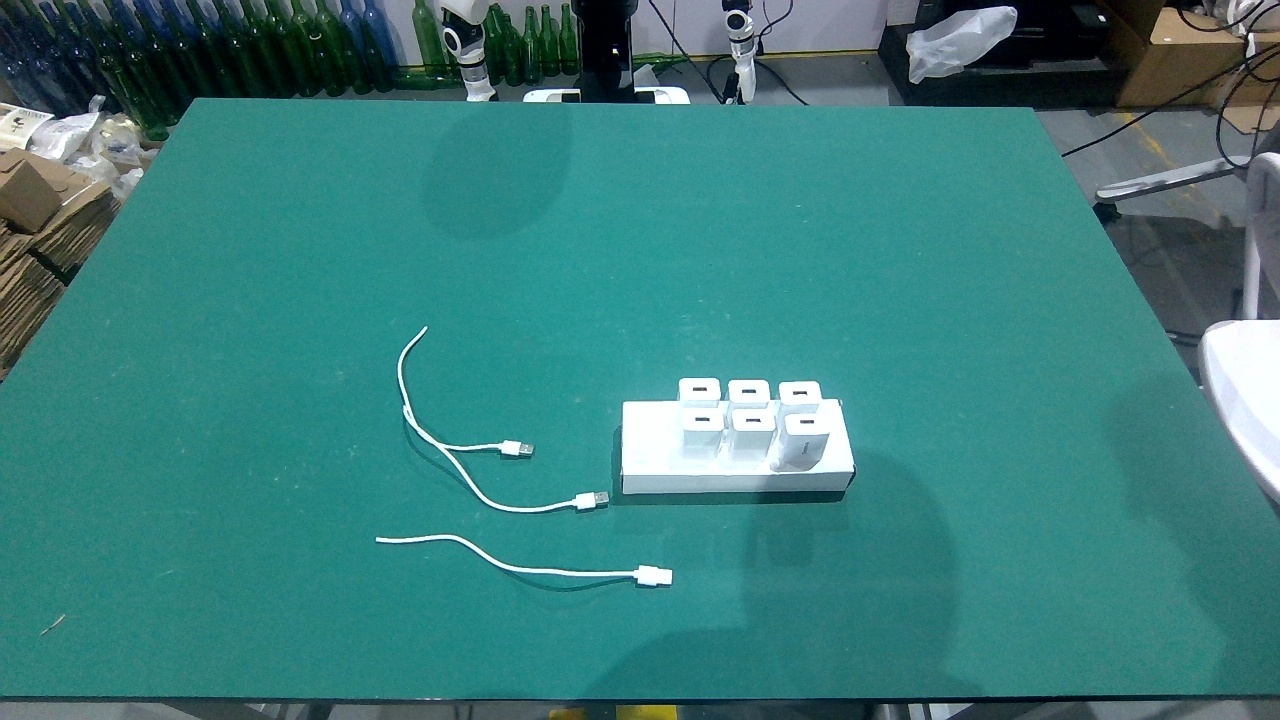usb_a_port: (694, 413, 713, 427), (742, 416, 763, 426), (797, 418, 819, 427), (791, 388, 809, 398), (690, 385, 710, 393), (739, 388, 760, 395)
